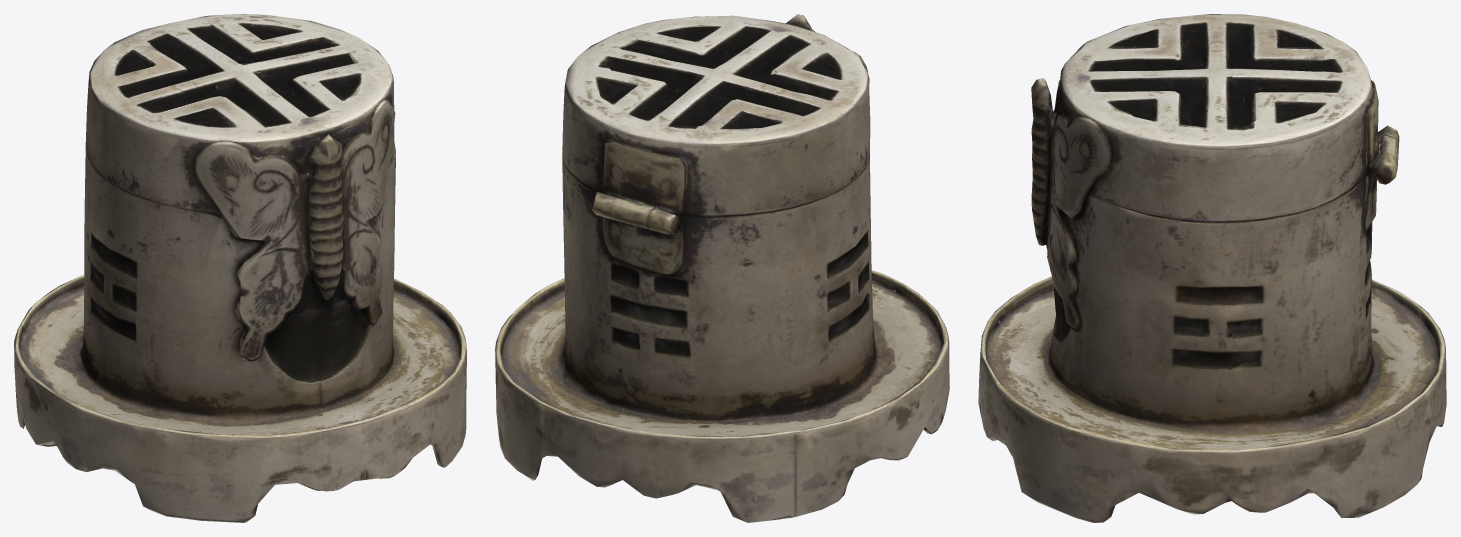
File: SM_Smoking_Pipe_Holder.fbx
The picture shows the model from 3 angles, left to right: view 1: azimuth 30°, elevation 25°; view 2: azimuth 150°, elevation 25°; view 3: azimuth 270°, elevation 25°; orthographic projection. The views are drawn at different scales.
Parts seen in each view (by area): view 1: KCDF_2022_prop_Smoking_Pipe_Holder_Mesh; view 2: KCDF_2022_prop_Smoking_Pipe_Holder_Mesh; view 3: KCDF_2022_prop_Smoking_Pipe_Holder_Mesh.
Part boxes in pixels (left/top/right/bottom): KCDF_2022_prop_Smoking_Pipe_Holder_Mesh: left=14, top=14, right=466, bottom=522; KCDF_2022_prop_Smoking_Pipe_Holder_Mesh: left=495, top=14, right=949, bottom=522; KCDF_2022_prop_Smoking_Pipe_Holder_Mesh: left=978, top=14, right=1446, bottom=522.
Size of the model in its own units: 16.44 by 14.48 by 16.6.
Materials: 1 (1 with a texture image).
